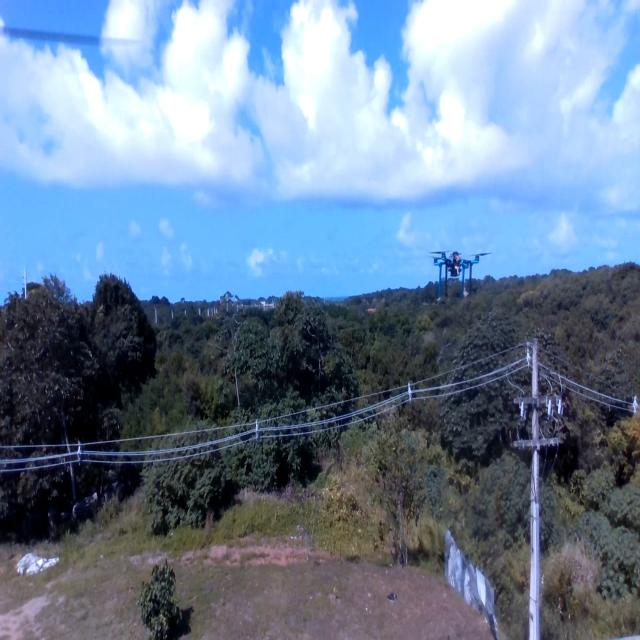-uav-: (416, 225, 498, 323)
